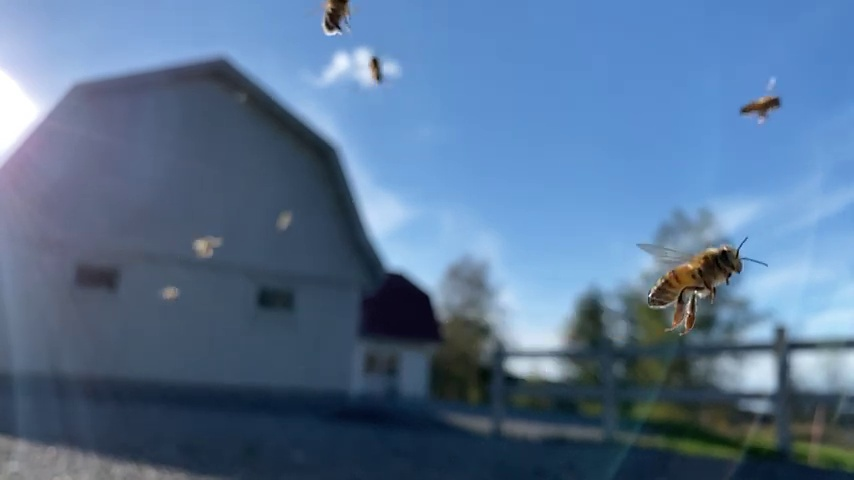insect: (634, 234, 769, 336), (737, 83, 782, 128), (320, 0, 354, 36), (361, 56, 392, 85)
